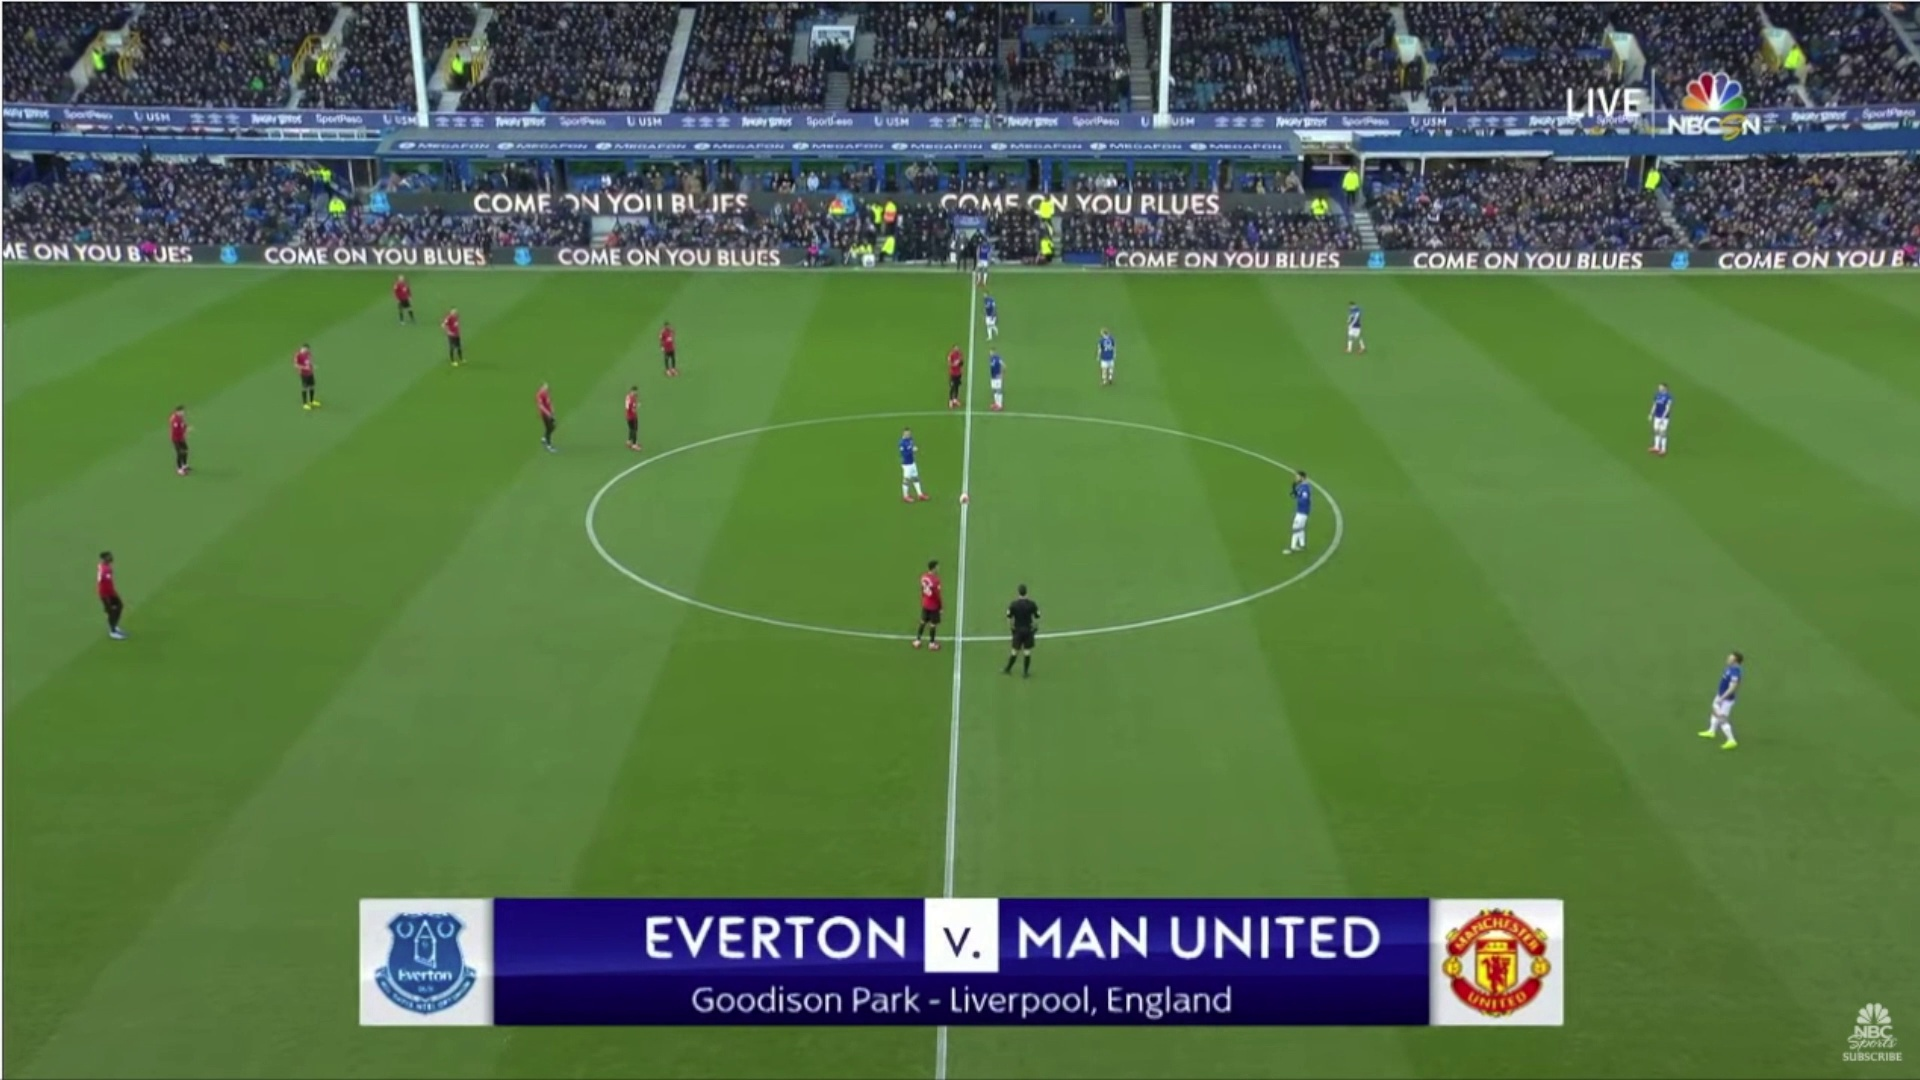ball: (945, 475, 985, 515)
player: (74, 540, 152, 660), (1700, 625, 1754, 773), (891, 546, 956, 665), (272, 335, 352, 427), (143, 383, 208, 488), (641, 302, 706, 396), (885, 413, 939, 523), (1633, 365, 1689, 465), (518, 363, 572, 465), (612, 377, 664, 471), (1283, 456, 1325, 571), (425, 298, 483, 379), (1331, 285, 1383, 367), (981, 342, 1027, 431), (1074, 321, 1129, 388), (377, 267, 427, 337), (937, 327, 970, 421), (970, 292, 1014, 335)
